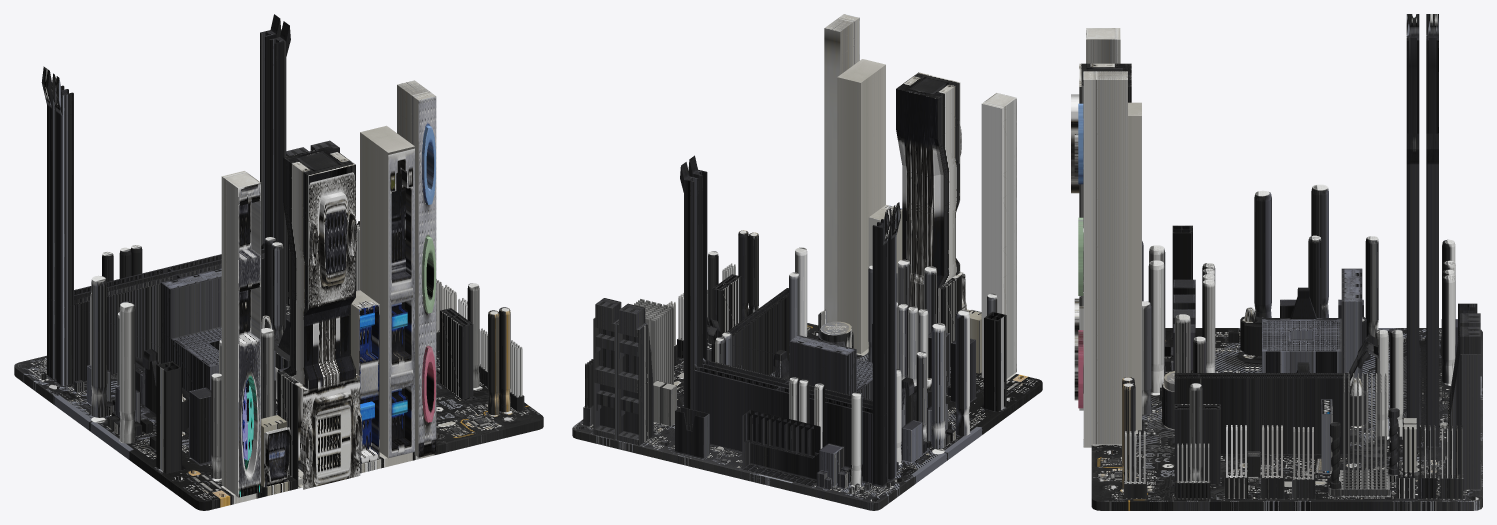
The model's file is Motherboard.fbx.
The picture shows the model from 3 angles, left to right: view 1: azimuth 30°, elevation 25°; view 2: azimuth 150°, elevation 25°; view 3: azimuth 270°, elevation 25°; orthographic projection. The views are drawn at different scales.
Visible parts, largest first — view 1: Motherboard; view 2: Motherboard; view 3: Motherboard.
Part boxes in pixels (x1,y1,x2,y2): Motherboard: [14, 14, 543, 510]; Motherboard: [572, 14, 1042, 510]; Motherboard: [1071, 14, 1482, 510].
Size of the model in its own units: 100 by 100 by 100.
